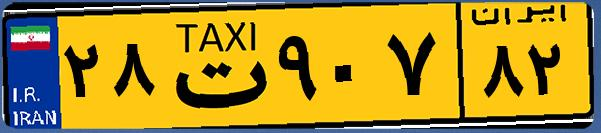0: (330, 28, 385, 110)
2: (57, 26, 110, 100), (525, 38, 570, 115)
7: (385, 28, 445, 110)
8: (475, 38, 525, 113), (110, 28, 158, 98)
9: (270, 28, 330, 110)
ت: (158, 12, 270, 120)
